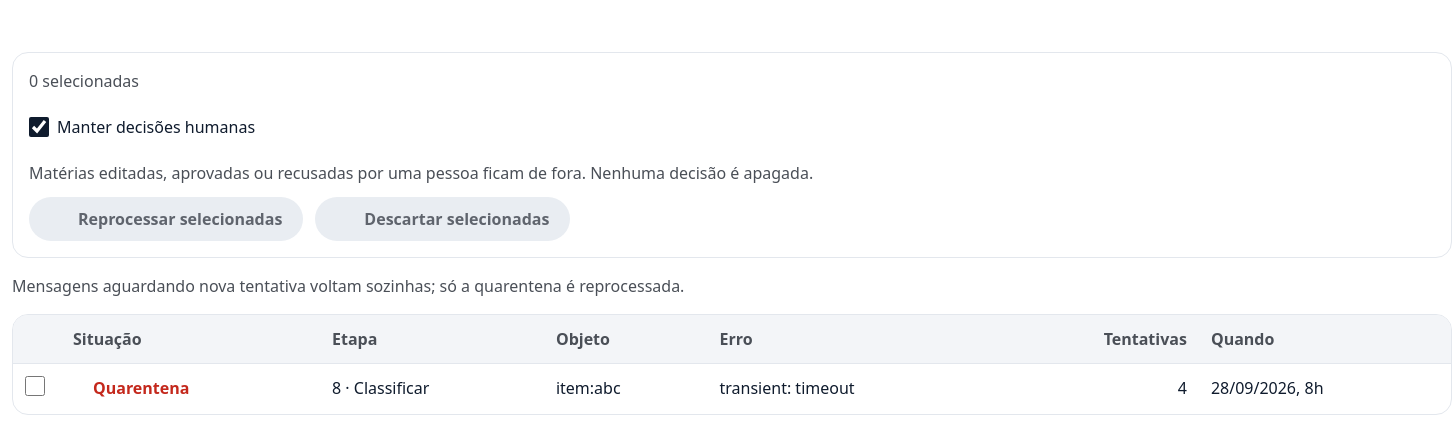
Test: JobTable › reprocessa as selecionadas mantendo decisões humanas por padrão
Expected: the checkbox labelled "Manter decisões humanas" is checked, [29,117,49,137]
Click the checkbox named "Selecionar 8 · Classificar": [35, 386] box [25,376,45,396]
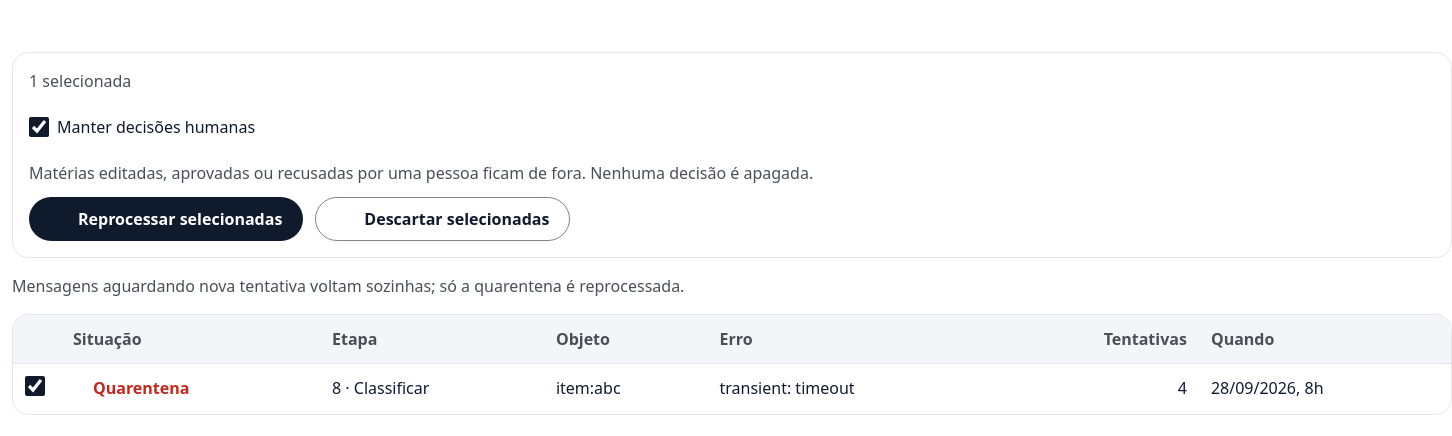
Click the button "Reprocessar selecionadas": [166, 219] box [29,197,303,241]
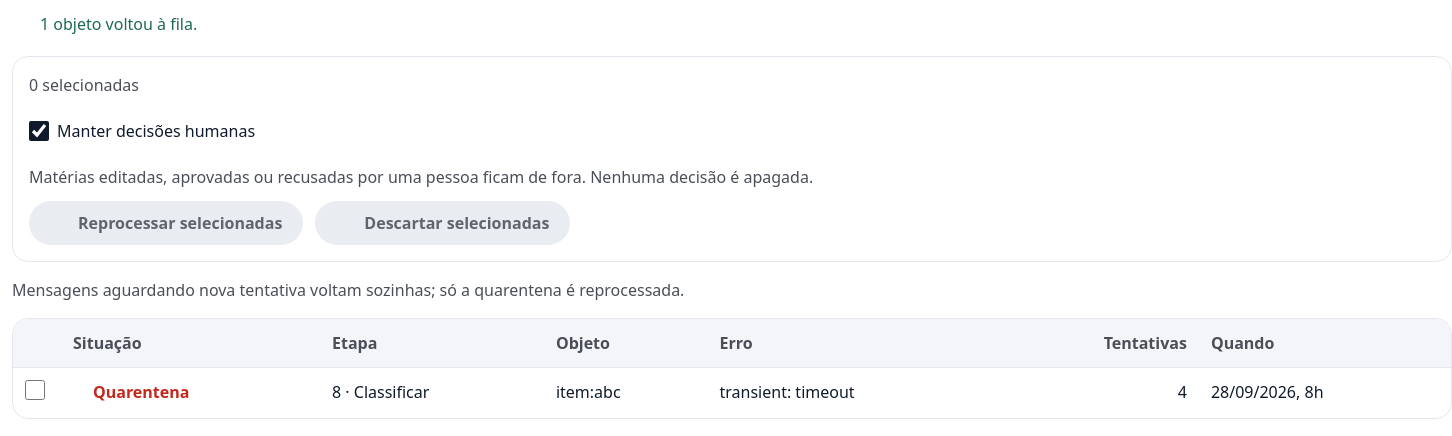
Expected: the text "1 objeto voltou à fila." is shown, [12,12,197,36]
